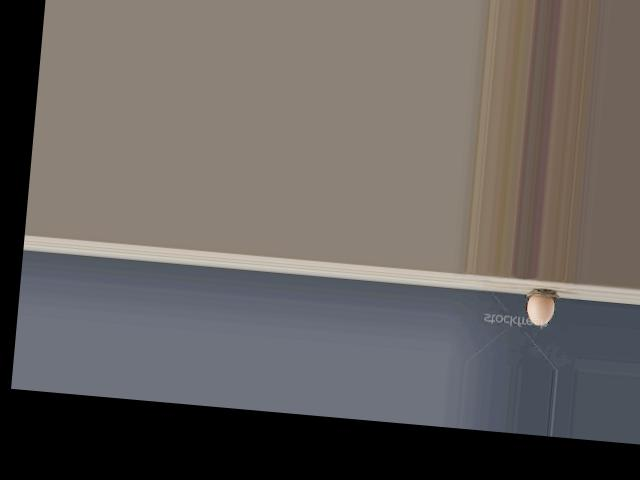egg: (526, 294, 556, 326)
